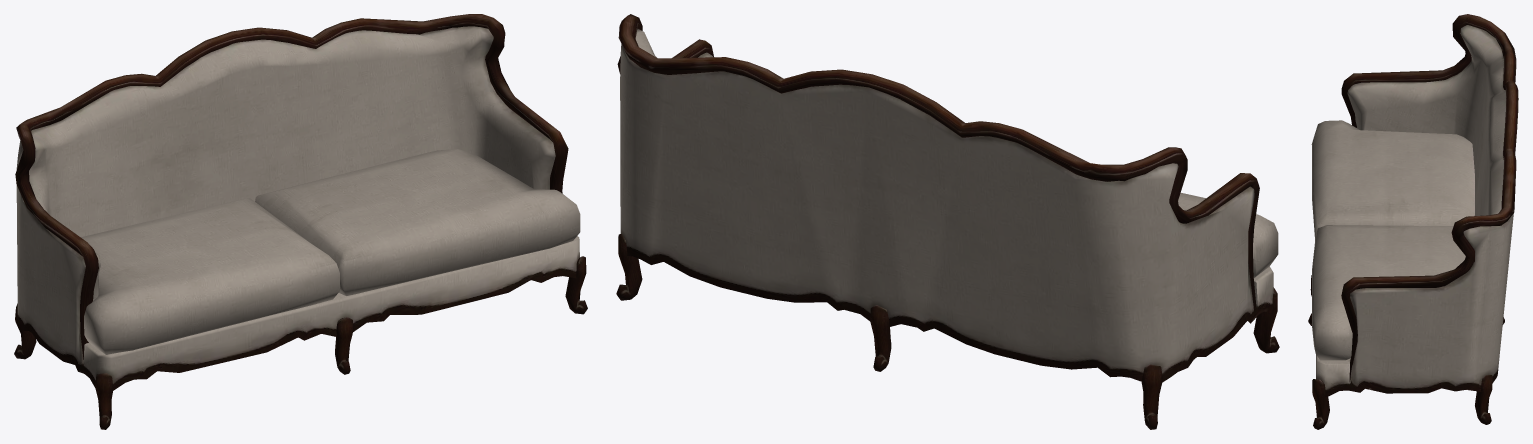
Rendered from Sofa_01.glb.
3 renders of one model, left to right at view 1: azimuth 30°, elevation 25°; view 2: azimuth 150°, elevation 25°; view 3: azimuth 270°, elevation 25°, orthographic. The views are drawn at different scales.
Parts seen in each view (by area): view 1: Sofa_01; view 2: Sofa_01; view 3: Sofa_01.
Part boxes in pixels (x1,y1,x2,y2): Sofa_01: (14, 14, 587, 429); Sofa_01: (616, 14, 1279, 429); Sofa_01: (1308, 14, 1518, 429).
Size of the model in its own units: 1.57 by 0.7954 by 0.658.
1 material, 1 textured.
